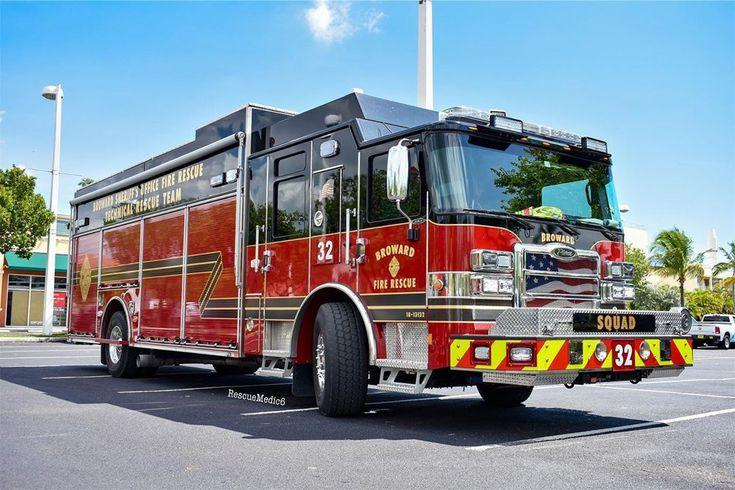Fire-engine: (64, 87, 695, 417)
